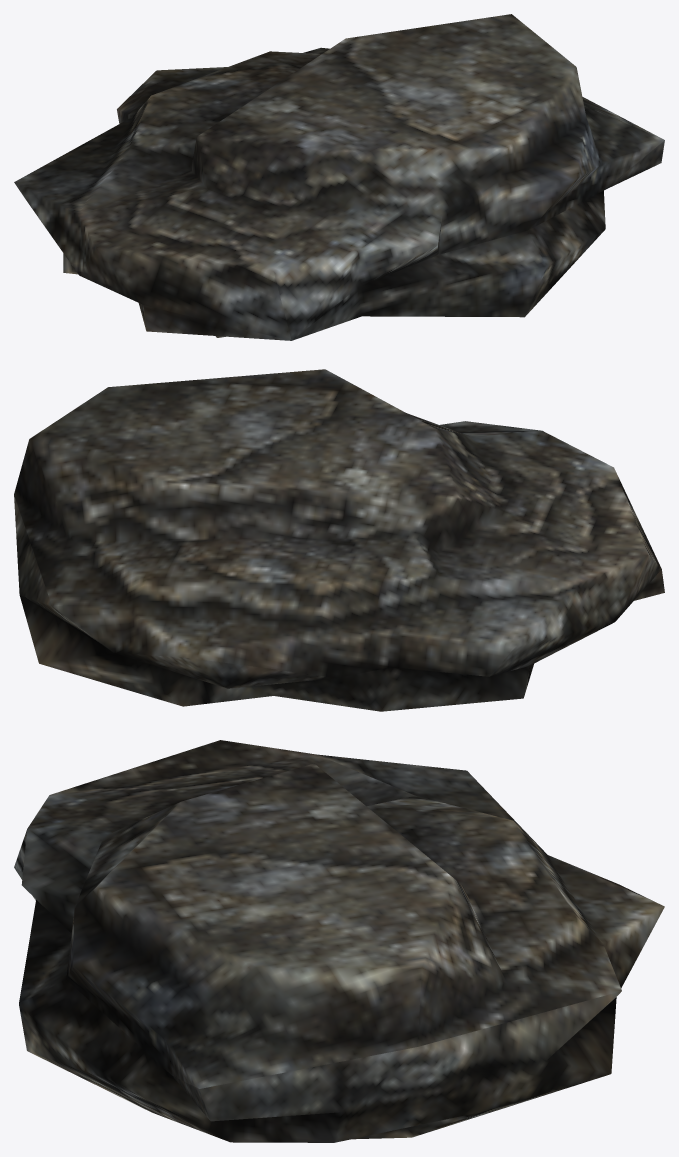
Rendered from Rock6_LOD1.fbx.
3 views of the same model, one above another, from view 1: azimuth 30°, elevation 25°; view 2: azimuth 150°, elevation 25°; view 3: azimuth 270°, elevation 25° (orthographic). The views are drawn at different scales.
Parts seen in each view (by area): view 1: Rock6_Group42155; view 2: Rock6_Group42155; view 3: Rock6_Group42155.
Boxes of the visible parts, box(x1,y1,x2,y2) form: Rock6_Group42155: box(14, 14, 664, 340); Rock6_Group42155: box(14, 369, 664, 711); Rock6_Group42155: box(14, 740, 664, 1142).
Bounding box in the file's own units: 4.8 × 1.37 × 4.08.
